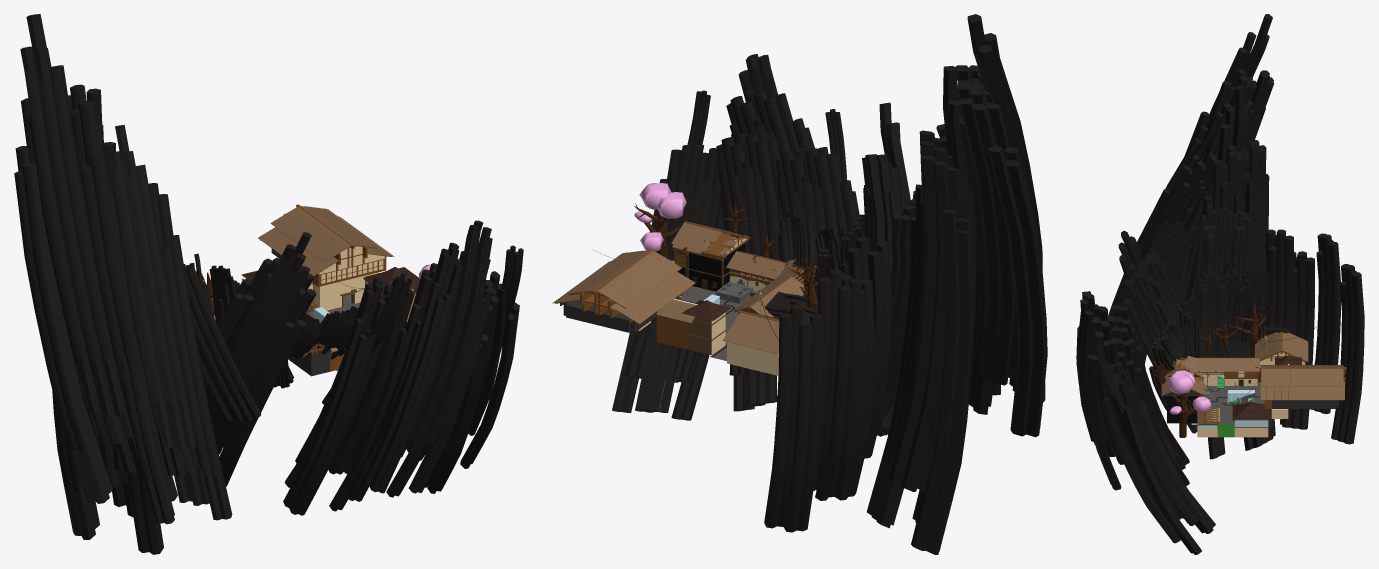
3 renders of one model, left to right at view 1: azimuth 30°, elevation 25°; view 2: azimuth 150°, elevation 25°; view 3: azimuth 270°, elevation 25°, orthographic. The views are drawn at different scales.
Parts seen in each view (by area): view 1: fond2:pCylinder19, pCube915, pCube1410Shape2, pCube29, pCube41; view 2: fond2:pCylinder19, pCube915, arbre_fleuri:arbre_mort:pCylinder41, pCube1410Shape2, pCube1098, pCube43, pCube33, pCube640, pCube339, pCube45, pCube447, pCube30 (+2 smaller); view 3: fond2:pCylinder19, pCube915, arbre_fleuri:arbre_mort:pCylinder41, pCube1410Shape2, pCube640, pCube1098, tuile1:tuile93, pCube35, arbre_mortgros, sols, pCube43, pCube41.
Part boxes in pixels (x1,y1,x2,y2): fond2:pCylinder19: (14,14,523,554); pCube915: (270,206,381,262); pCube1410Shape2: (258,216,394,276); pCube29: (317,272,378,310); pCube41: (288,348,330,376); fond2:pCylinder19: (612,14,1047,554); pCube915: (566,250,681,308); arbre_fleuri:arbre_mort:pCylinder41: (634,183,687,258); pCube1410Shape2: (552,261,695,323); pCube1098: (723,311,779,354); pCube43: (676,243,745,291); pCube33: (688,312,726,355); pCube640: (731,259,804,317); pCube339: (671,222,747,255); pCube45: (727,342,778,375); pCube447: (726,251,795,279); pCube30: (566,300,630,332); fond2:pCylinder19: (1076,14,1364,554); pCube915: (1261,365,1343,386); arbre_fleuri:arbre_mort:pCylinder41: (1168,370,1211,437); pCube1410Shape2: (1260,382,1344,400); pCube640: (1176,355,1259,371); pCube1098: (1255,332,1308,361); tuile1:tuile93: (1232,401,1270,420); pCube35: (1234,414,1268,437); arbre_mortgros: (1228,302,1271,357); sols: (1204,386,1257,405); pCube43: (1167,395,1198,423); pCube41: (1188,365,1257,385).
Bounding box in the file's own units: 113 × 135 × 85.47.
